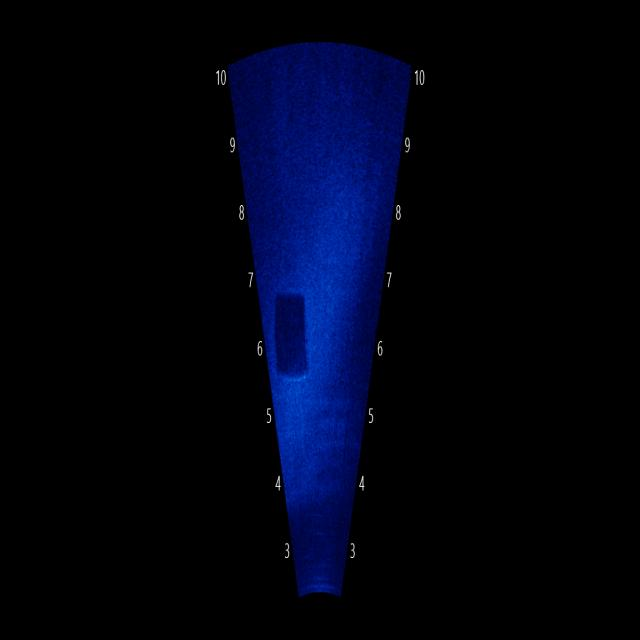square: (268, 270, 323, 397)
